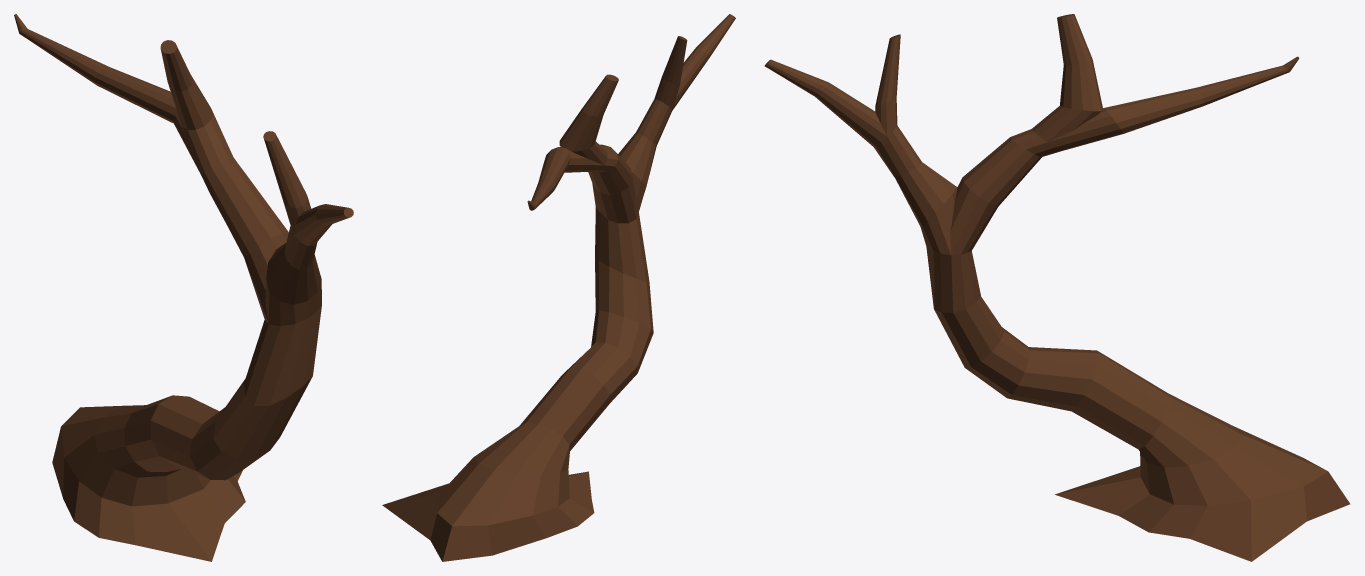
File: Tree2_Trunk.fbx
3 views of the same model, side by side, from view 1: azimuth 30°, elevation 25°; view 2: azimuth 150°, elevation 25°; view 3: azimuth 270°, elevation 25° (orthographic). The views are drawn at different scales.
Parts seen in each view (by area): view 1: Icosphere.000; view 2: Icosphere.000; view 3: Icosphere.000.
Boxes of the visible parts, x1,y1,x2,y2 form: Icosphere.000: [14, 14, 353, 561]; Icosphere.000: [382, 14, 735, 561]; Icosphere.000: [764, 14, 1350, 561].
Size of the model in its own units: 159 by 365 by 417.
